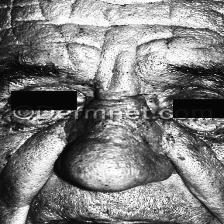Benign Marking or Mole: (156, 126, 224, 161), (0, 120, 66, 153)
